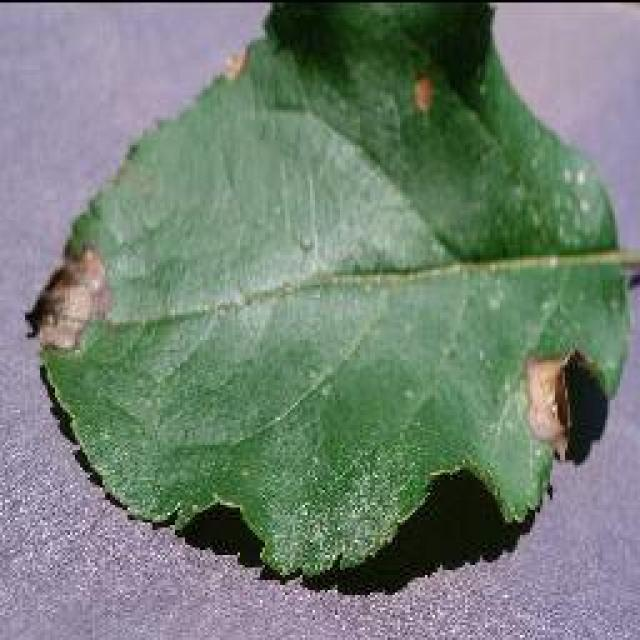apple black rot: (22, 0, 637, 592)
